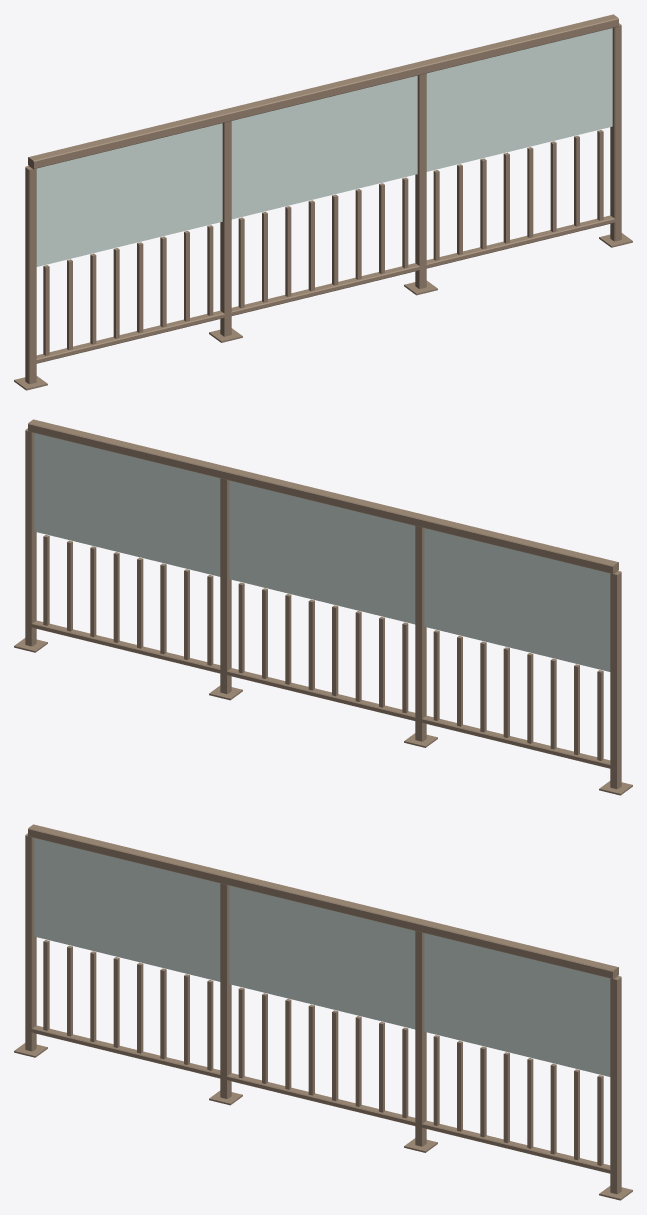
File: gc-s80b-mixte-300-quartz-1019.glb
3 views of the same model, one above another, from view 1: azimuth 30°, elevation 25°; view 2: azimuth 150°, elevation 25°; view 3: azimuth 330°, elevation 25° (orthographic).
Visible parts, largest first — view 1: verre, structure; view 2: verre, structure; view 3: verre, structure.
Boxes of the visible parts, box(x1,y1,x2,y2) form: verre: box(36, 28, 612, 266); structure: box(14, 14, 632, 390); verre: box(34, 433, 610, 671); structure: box(14, 419, 632, 795); verre: box(34, 838, 610, 1076); structure: box(14, 824, 632, 1200).
Bounding box in the file's own units: 3.11 × 1.1 × 0.11.
